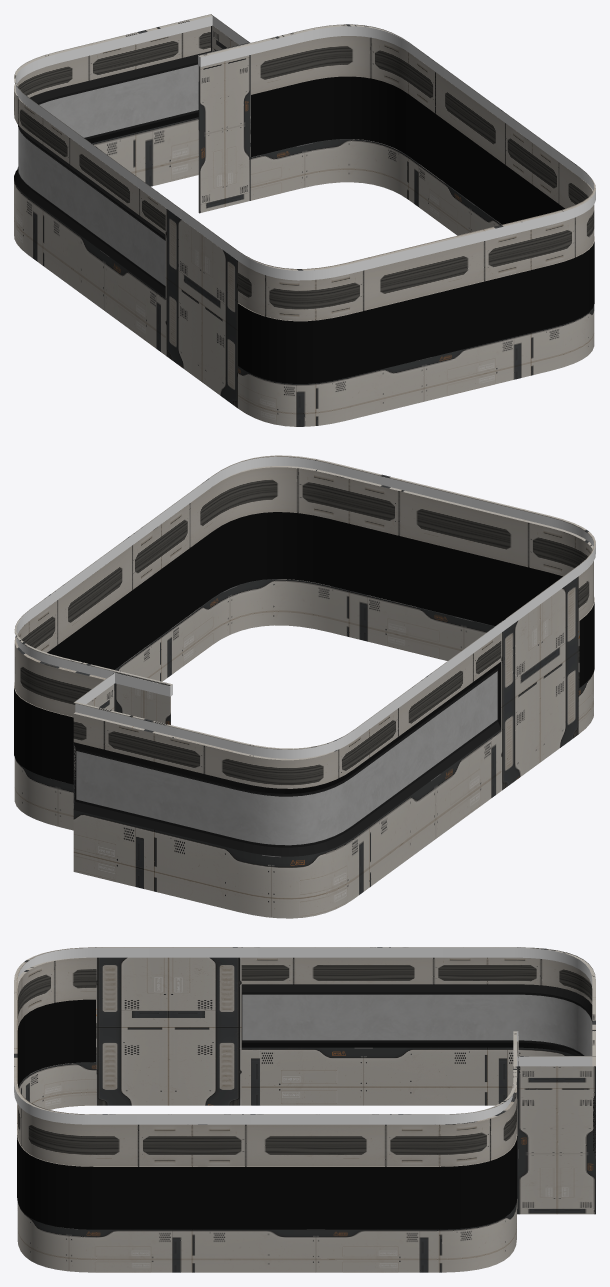
File: SciFi_CR_Wall.FBX
3 views of the same model, one above another, from view 1: azimuth 30°, elevation 25°; view 2: azimuth 150°, elevation 25°; view 3: azimuth 270°, elevation 25° (orthographic). The views are drawn at different scales.
Visible parts, largest first — view 1: SciFi_CR_Wall; view 2: SciFi_CR_Wall; view 3: SciFi_CR_Wall.
Boxes of the visible parts, bbox=[...] form: SciFi_CR_Wall: bbox=[14, 14, 595, 426]; SciFi_CR_Wall: bbox=[14, 455, 595, 918]; SciFi_CR_Wall: bbox=[14, 947, 595, 1272].
Bounding box in the file's own units: 9170 × 4038 × 13457.
5 materials, 2 textured.
